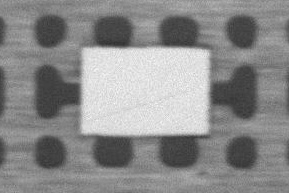DIE_CRACK: (130, 61, 280, 81)
